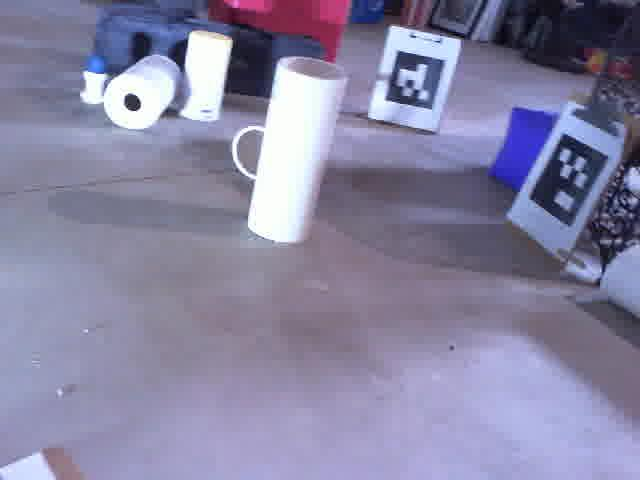coral: (249, 53, 357, 248), (227, 120, 269, 185)
